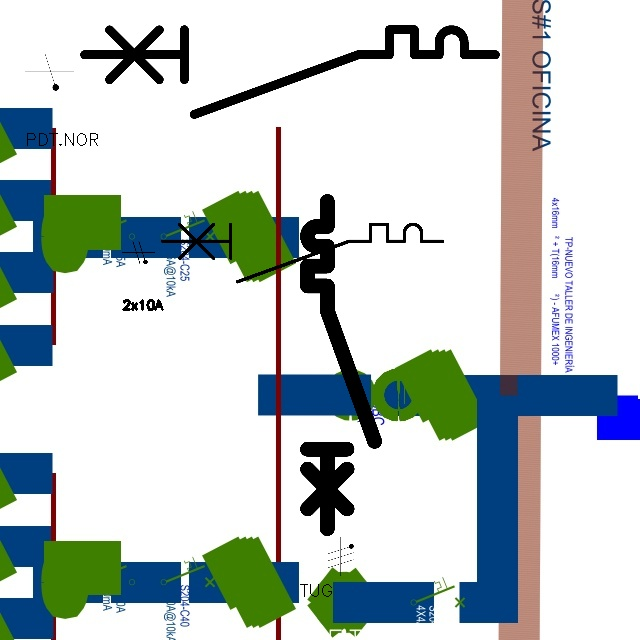interruptor_termomagnetico: (73, 19, 505, 124), (299, 193, 383, 537), (155, 217, 450, 289)
